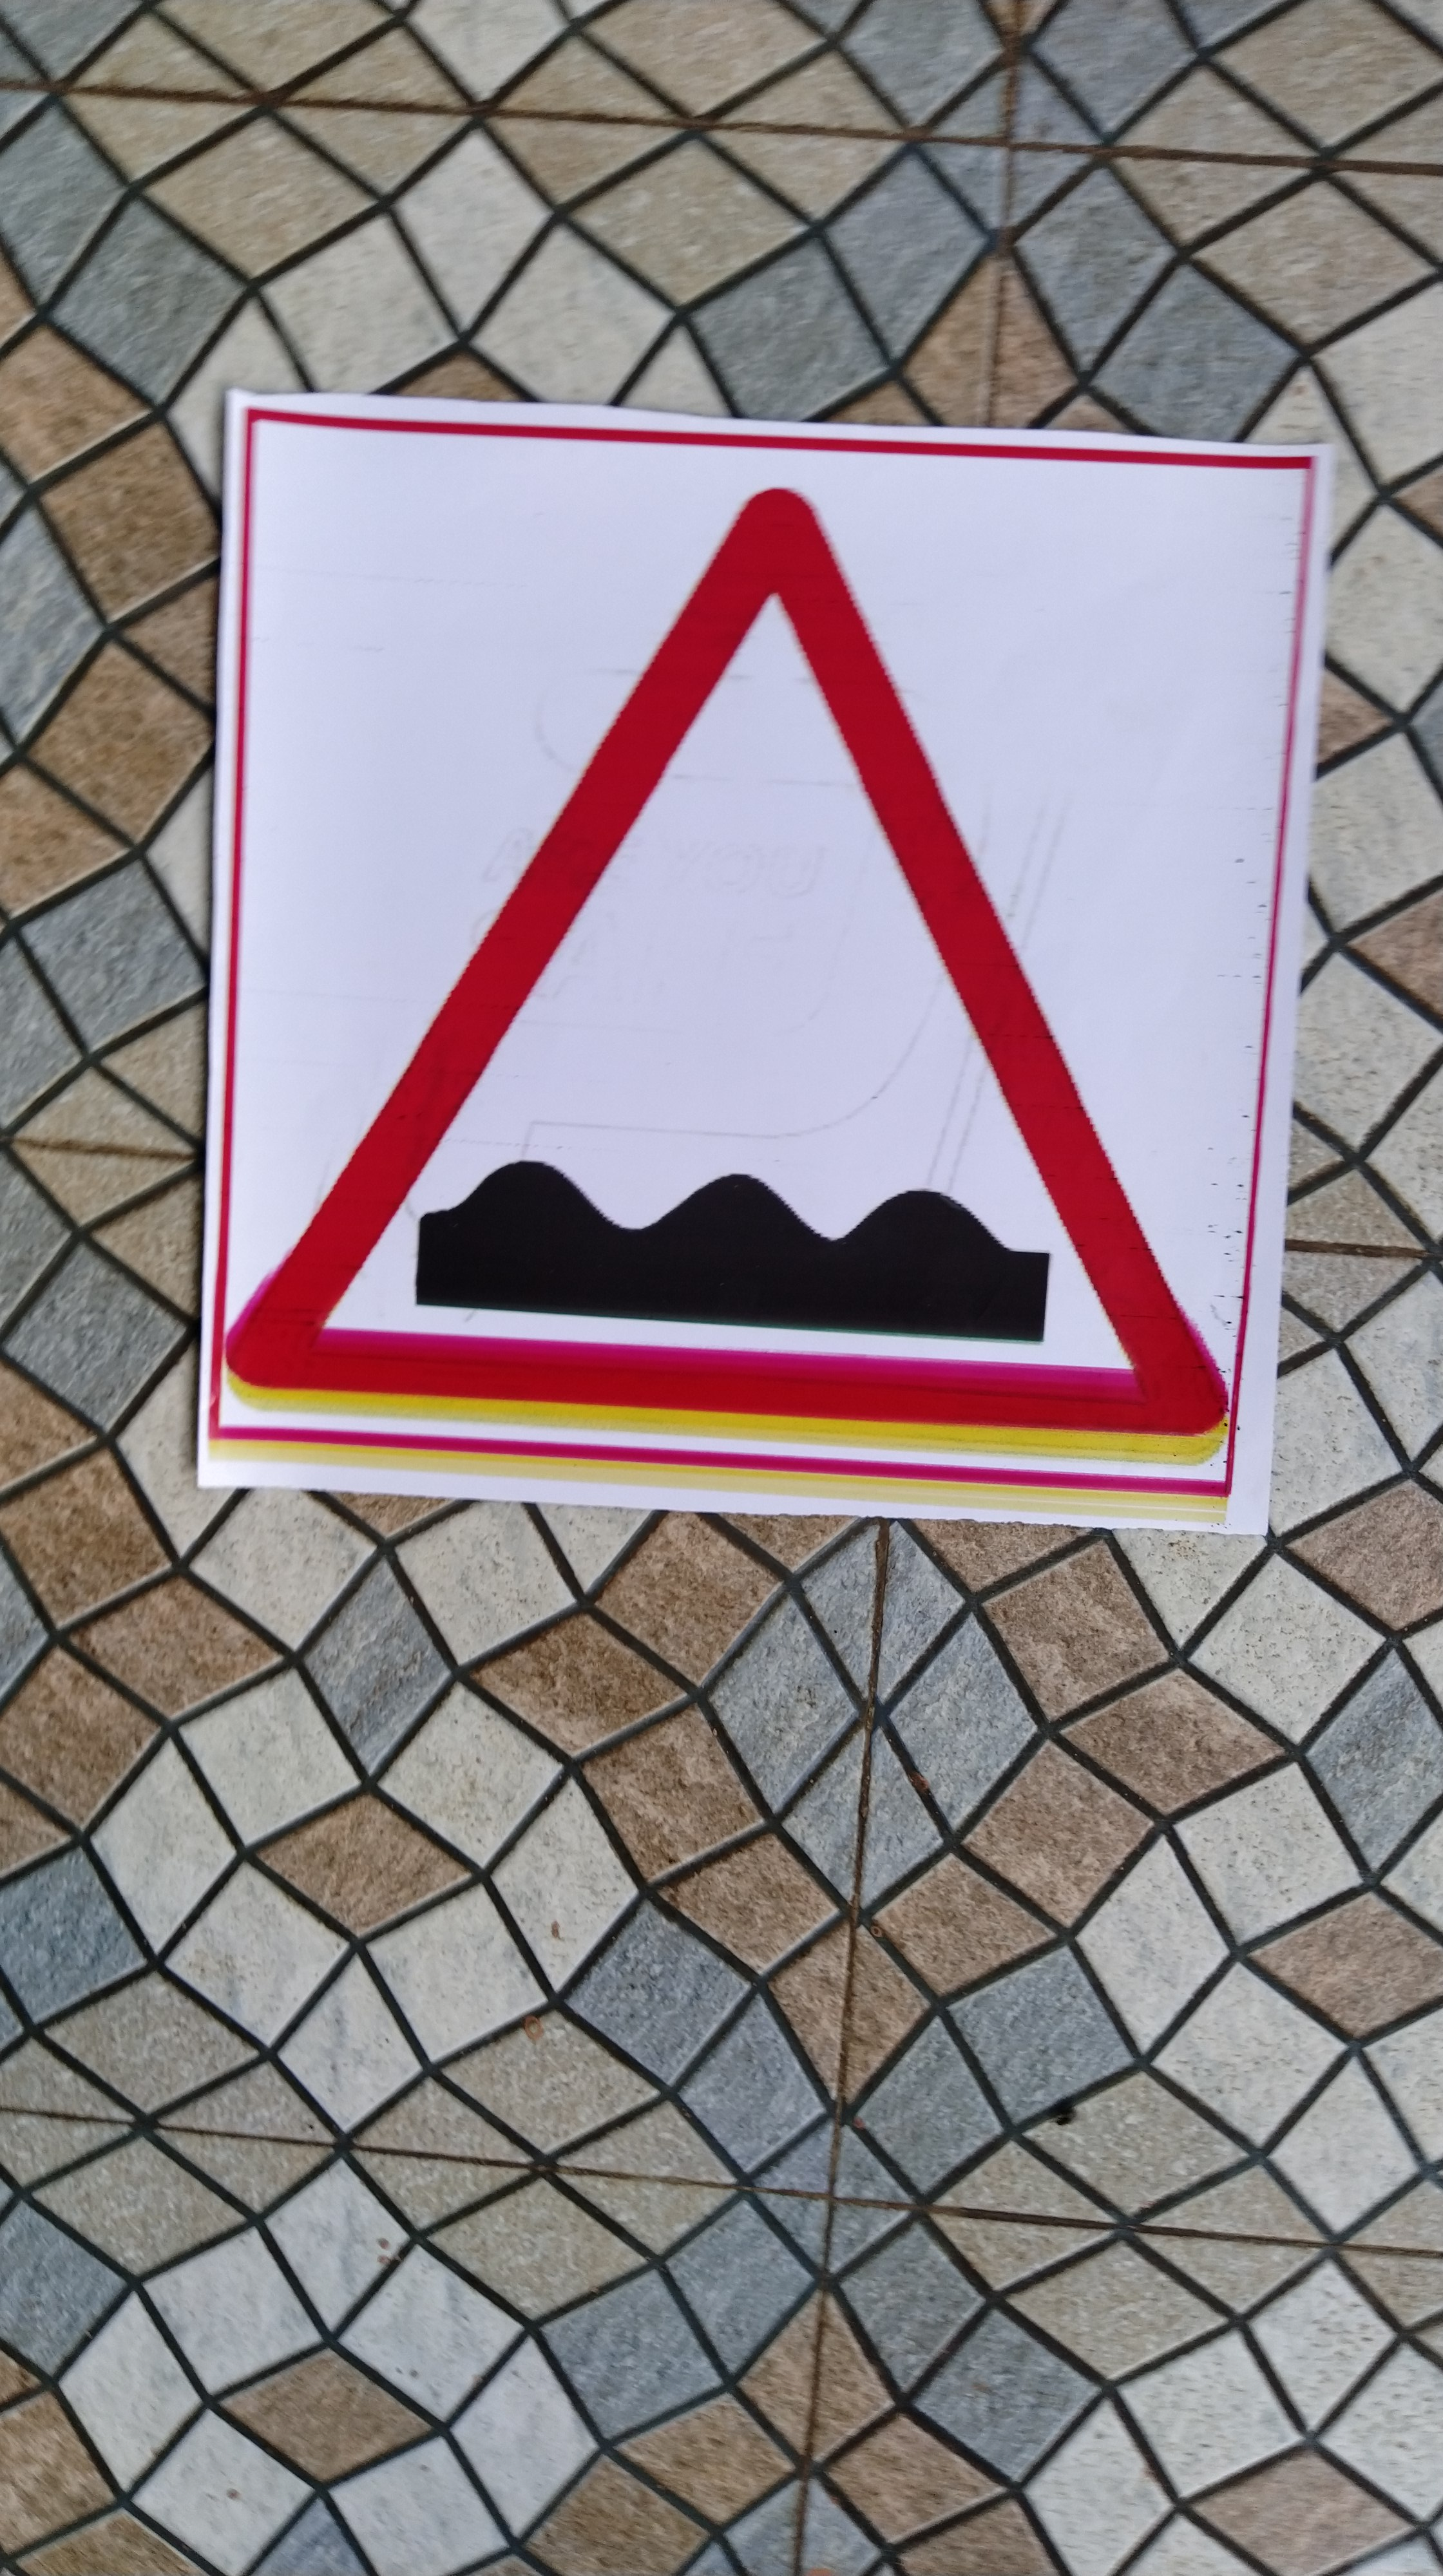speed breaker: (228, 409, 1282, 1523)
